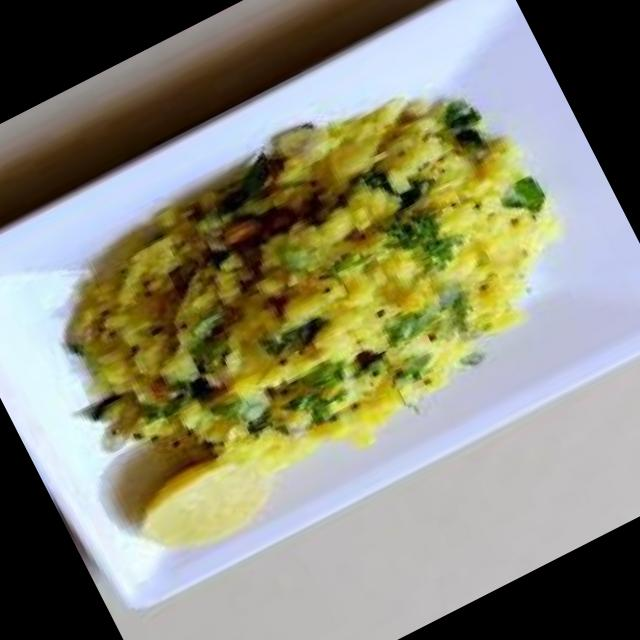poha: (12, 40, 610, 552)
